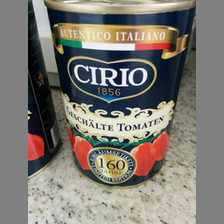tomato_sauce: (43, 1, 195, 187)
